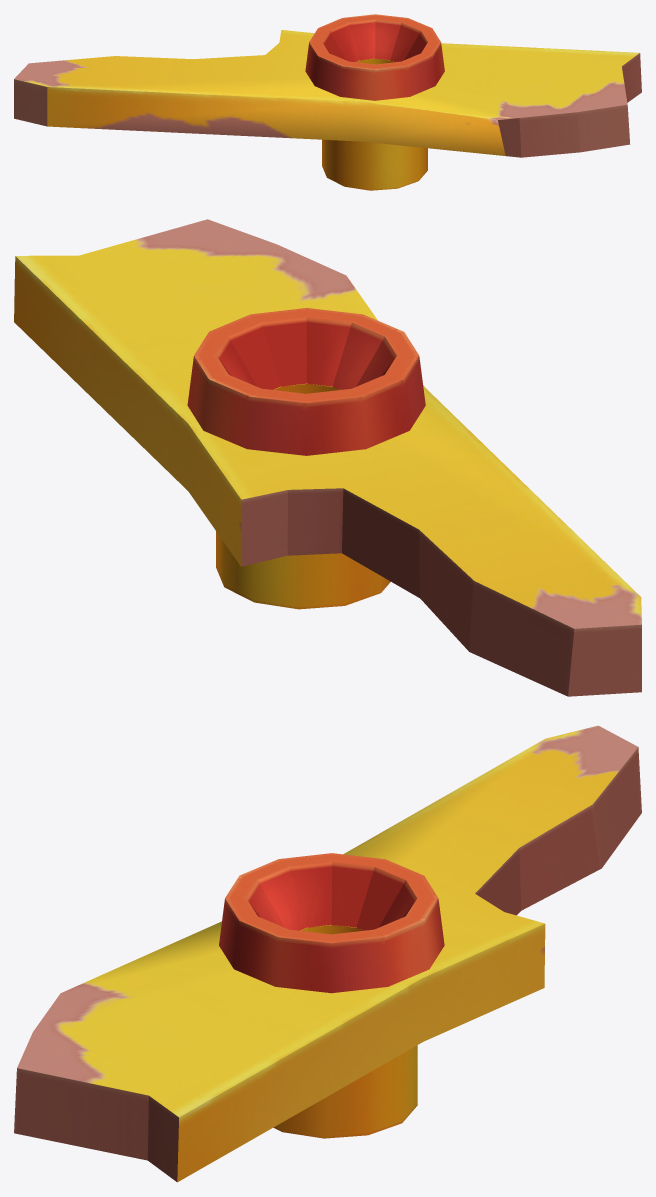
File: huailingjian01.FBX
The picture shows the model from 3 angles, top to bottom: view 1: azimuth 30°, elevation 25°; view 2: azimuth 150°, elevation 25°; view 3: azimuth 270°, elevation 25°; orthographic projection. The views are drawn at different scales.
Visible parts, largest first — view 1: huailingjian01; view 2: huailingjian01; view 3: huailingjian01.
Boxes of the visible parts, x1=… form: huailingjian01: x1=14, y1=14, x2=641, y2=190; huailingjian01: x1=14, y1=219, x2=641, y2=696; huailingjian01: x1=14, y1=725, x2=641, y2=1182.
Bounding box in the file's own units: 47.14 × 11.42 × 31.84.
